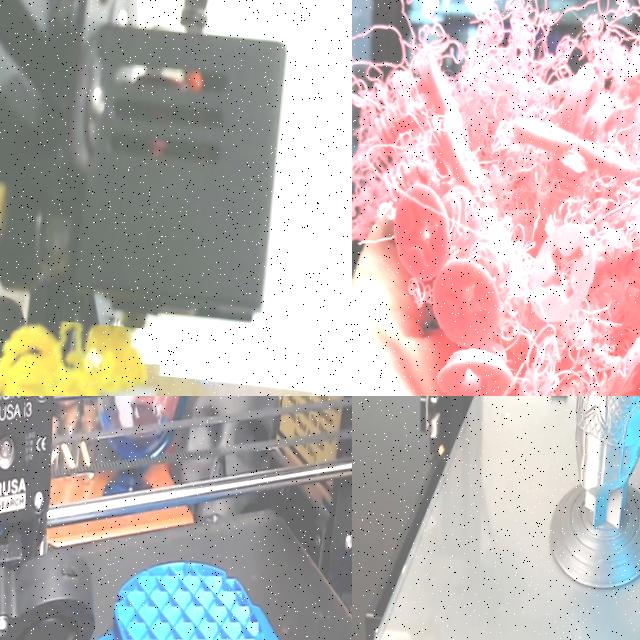spaghetti: (352, 0, 640, 396), (0, 315, 165, 396)
